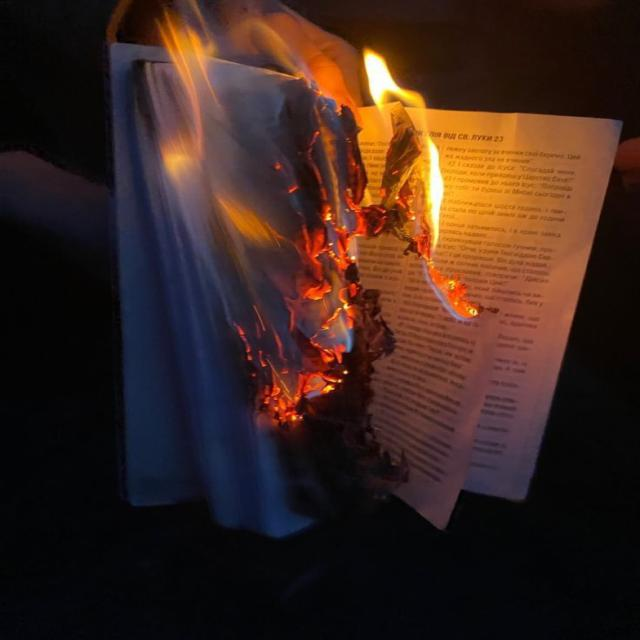fire: (155, 17, 353, 415), (360, 46, 444, 253)
